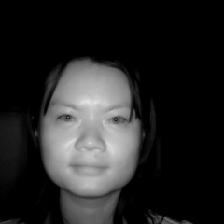normal: (26, 39, 159, 201)
